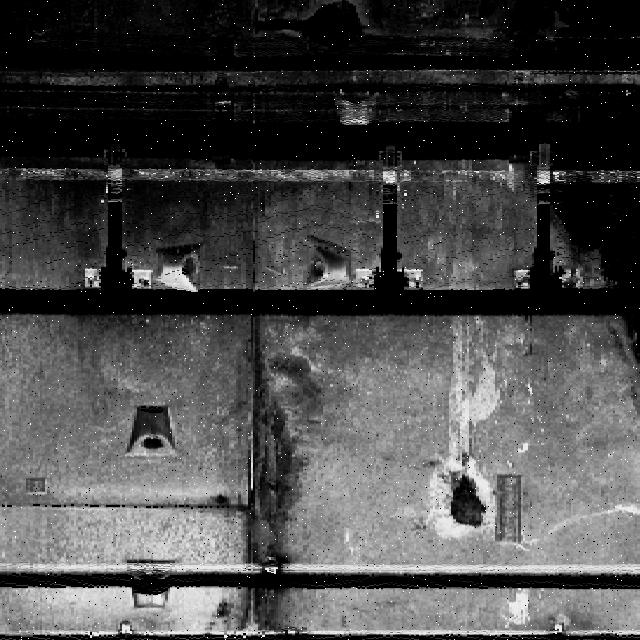leakage: (536, 1, 639, 416), (218, 339, 314, 635), (233, 1, 384, 55)
